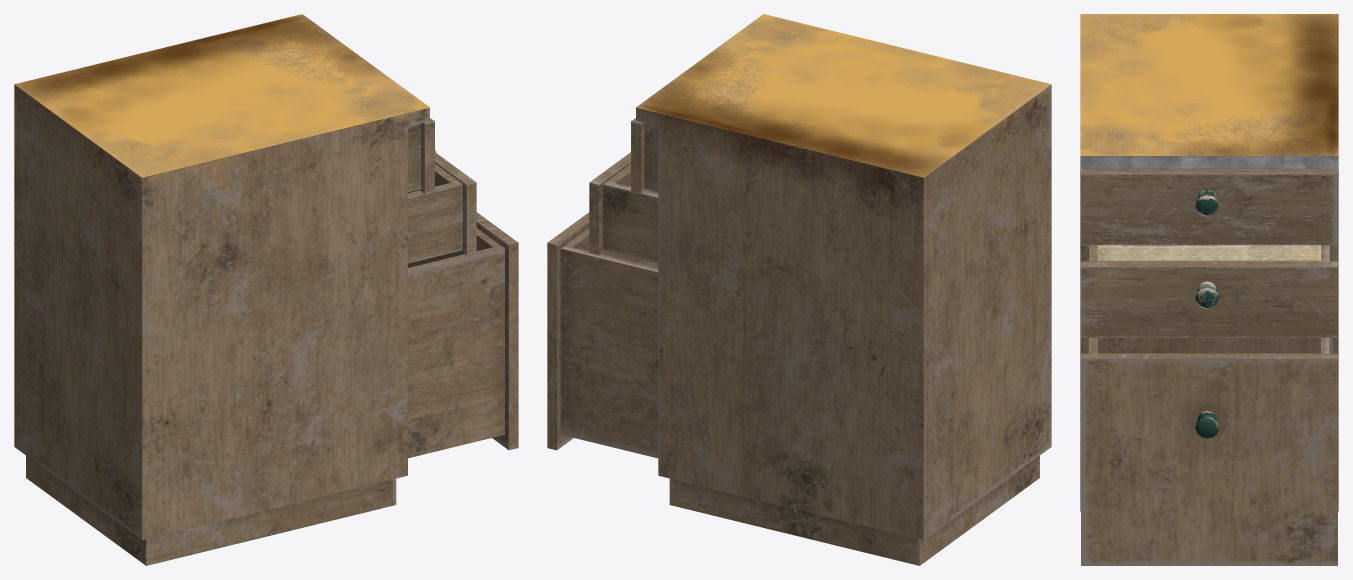
The model's file is Kitchen_Cabinet_02.fbx.
3 renders of one model, left to right at view 1: azimuth 30°, elevation 25°; view 2: azimuth 150°, elevation 25°; view 3: azimuth 270°, elevation 25°, orthographic.
Parts seen in each view (by area): view 1: SM_Kitchen_Cabinet_Base, SM_KitchenCabinet_Drawer_03, SM_KitchenCabinet_Drawer_02, SM_KitchenCabinet_Drawer_01; view 2: SM_Kitchen_Cabinet_Base, SM_KitchenCabinet_Drawer_03, SM_KitchenCabinet_Drawer_02, SM_KitchenCabinet_Drawer_01; view 3: SM_KitchenCabinet_Drawer_03, SM_Kitchen_Cabinet_Base, SM_KitchenCabinet_Drawer_02, SM_KitchenCabinet_Drawer_01.
Boxes of the visible parts, x1,y1,x2,y2 form: SM_Kitchen_Cabinet_Base: [14, 14, 429, 565]; SM_KitchenCabinet_Drawer_03: [408, 212, 518, 458]; SM_KitchenCabinet_Drawer_02: [408, 150, 476, 263]; SM_KitchenCabinet_Drawer_01: [408, 118, 434, 194]; SM_Kitchen_Cabinet_Base: [636, 14, 1051, 565]; SM_KitchenCabinet_Drawer_03: [547, 212, 658, 458]; SM_KitchenCabinet_Drawer_02: [589, 152, 658, 263]; SM_KitchenCabinet_Drawer_01: [631, 118, 658, 194]; SM_KitchenCabinet_Drawer_03: [1081, 338, 1337, 565]; SM_Kitchen_Cabinet_Base: [1080, 14, 1338, 511]; SM_KitchenCabinet_Drawer_02: [1081, 245, 1337, 337]; SM_KitchenCabinet_Drawer_01: [1081, 169, 1337, 245].
Bounding box in the file's own units: 89.52 × 84.8 × 50.
